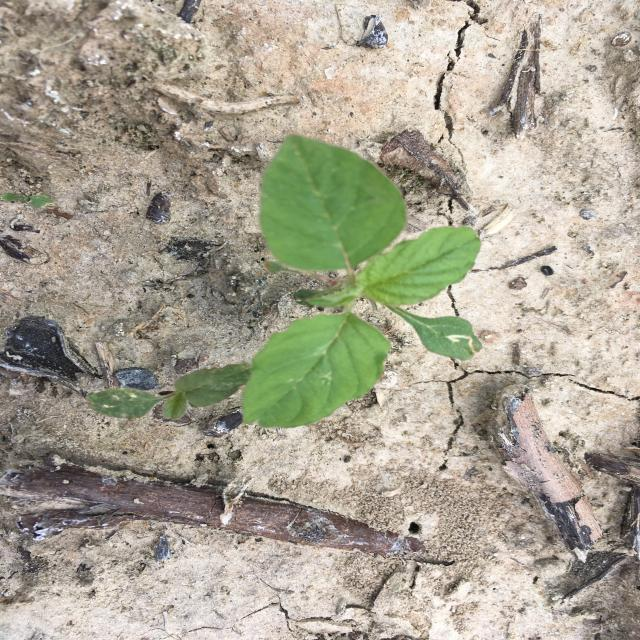PalmerAmaranth: (242, 134, 483, 428), (85, 362, 250, 421)
